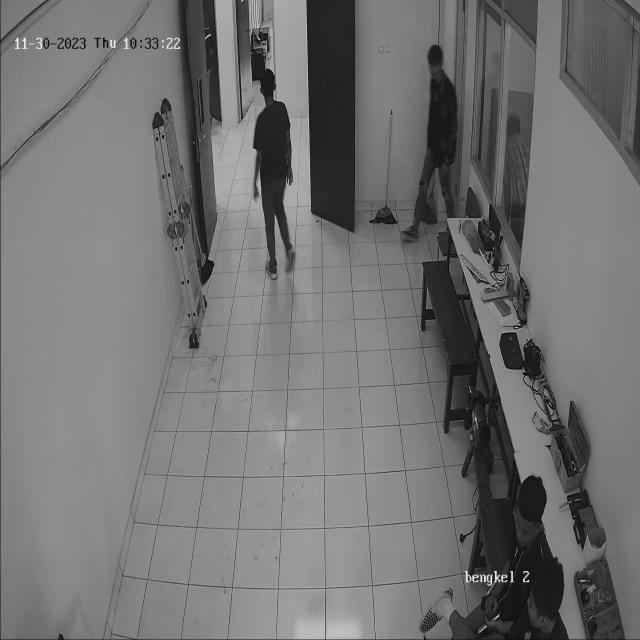person: (242, 58, 301, 300), (409, 37, 461, 258)
